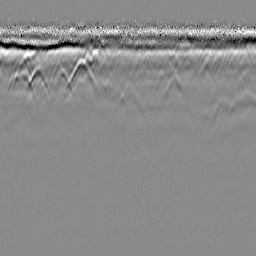cavity: (117, 79, 139, 109)
